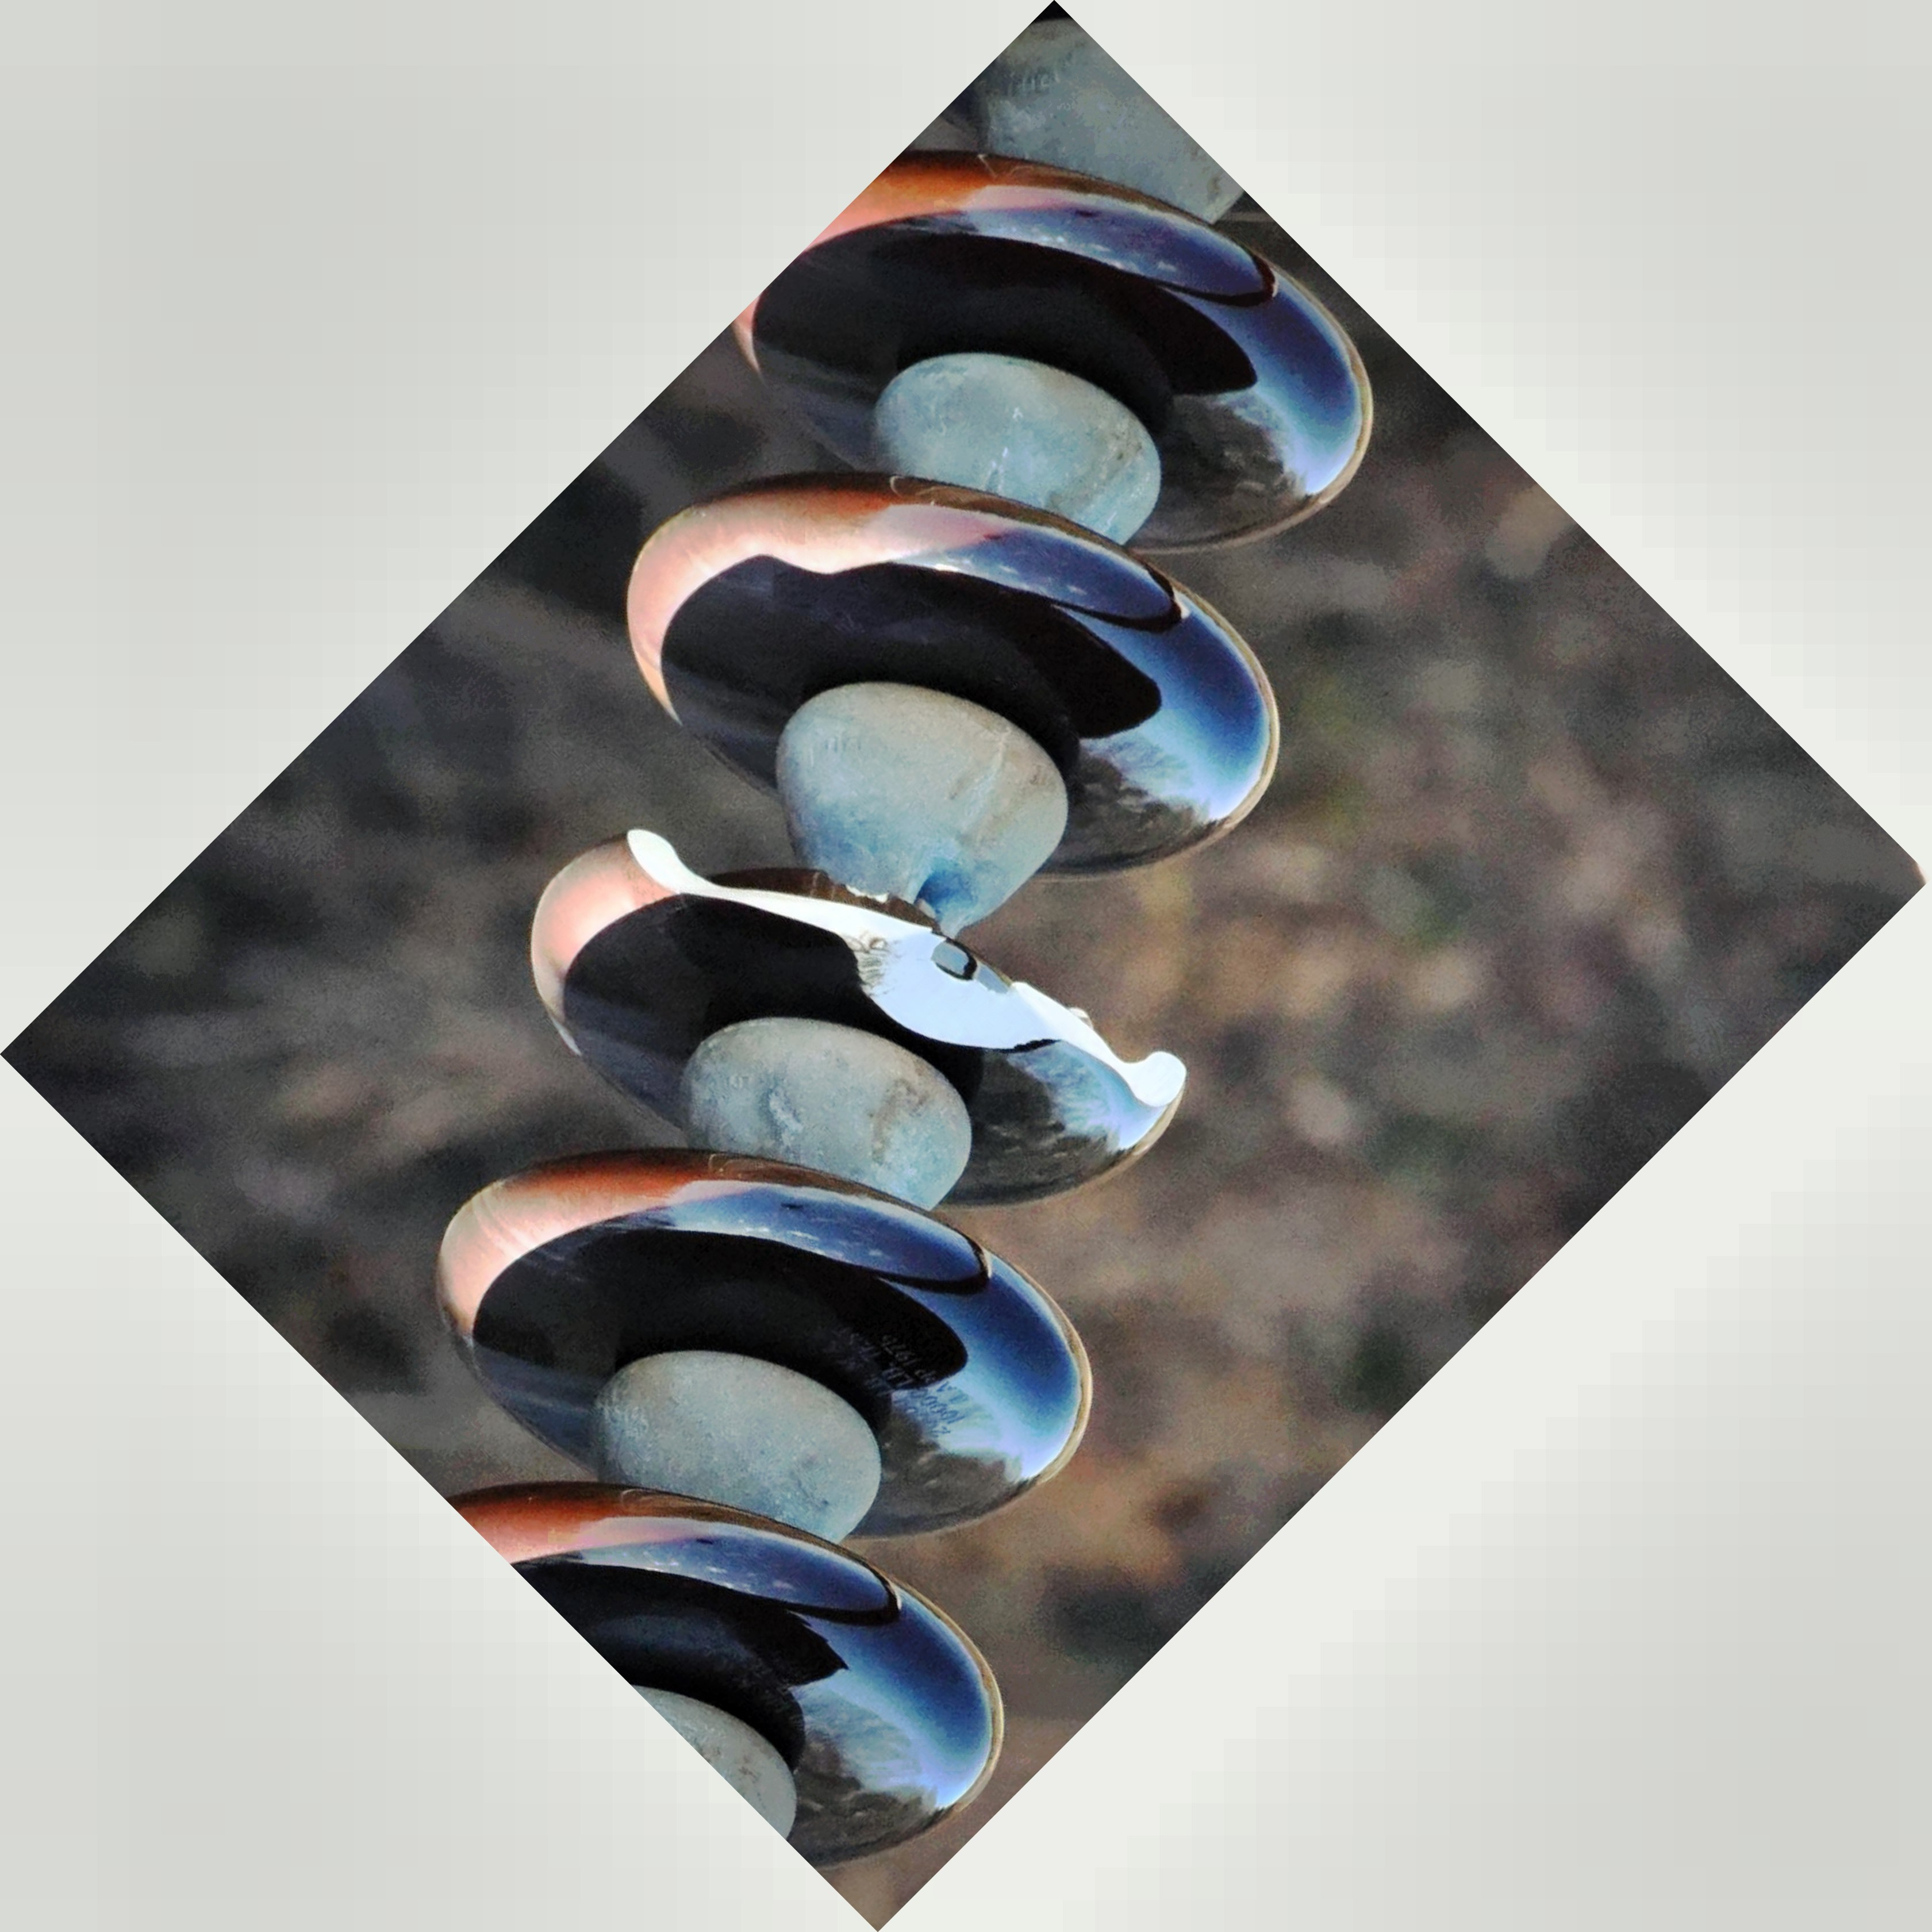insulator breakage: (499, 794, 1203, 1233)
